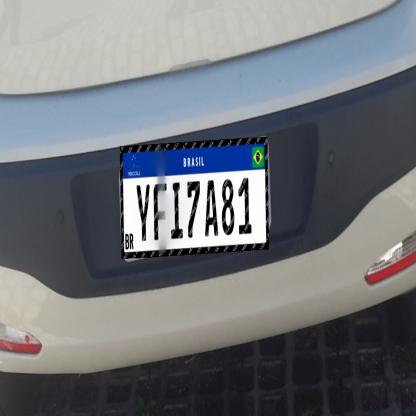PlacaM: (120, 137, 269, 259)
